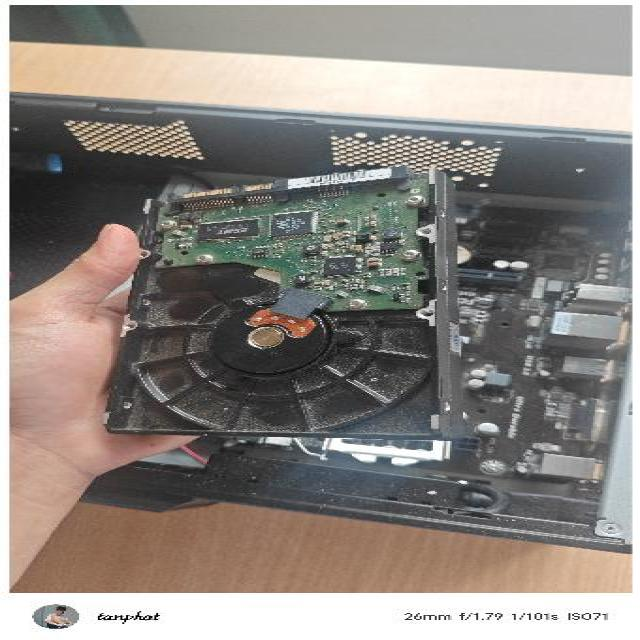DISK: (100, 164, 459, 446)
